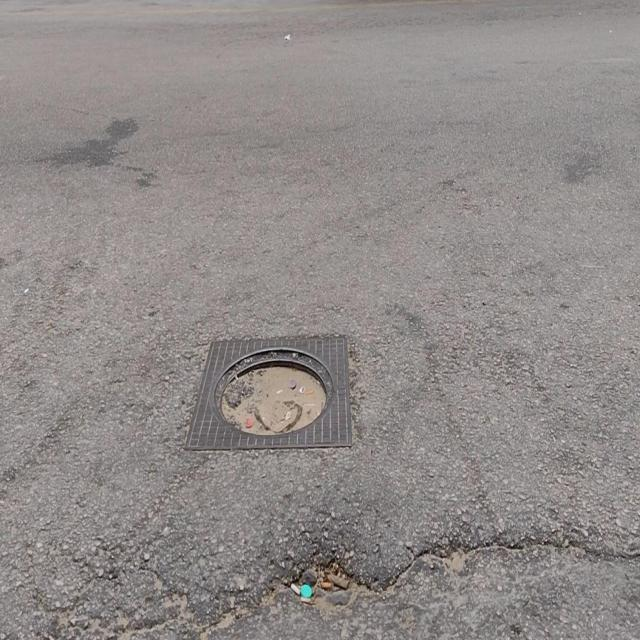Potholes: (208, 346, 336, 438)
